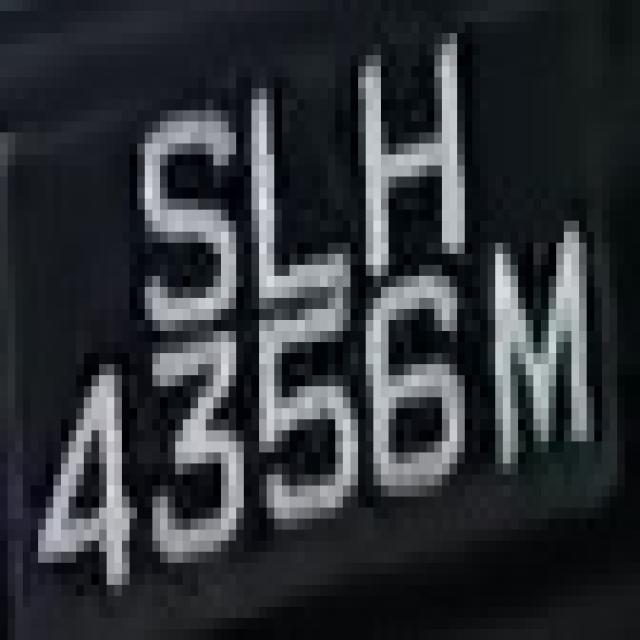3: (137, 331, 252, 607)
4: (23, 342, 137, 585)
5: (244, 287, 358, 541)
6: (366, 232, 472, 530)
H: (335, 33, 488, 320)
L: (236, 66, 351, 320)
M: (480, 220, 610, 474)
S: (129, 77, 244, 331)
